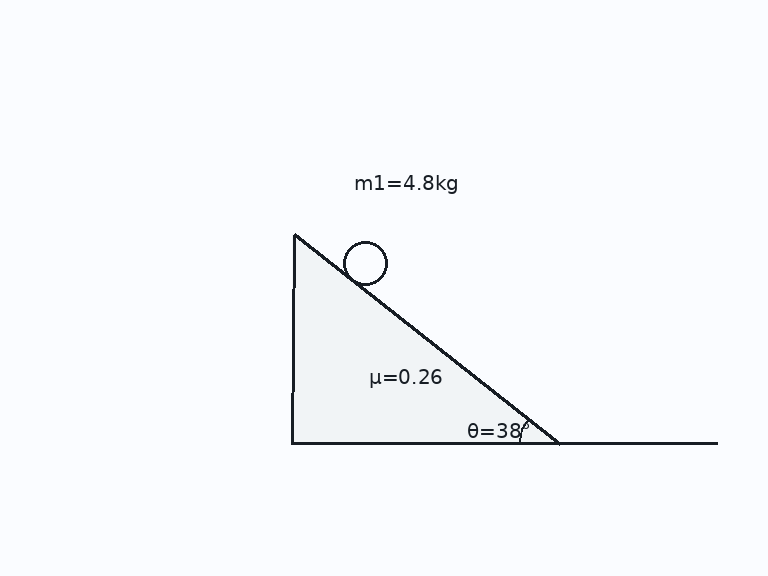ball: (341, 239, 389, 287)
ramp: (291, 232, 562, 445)
